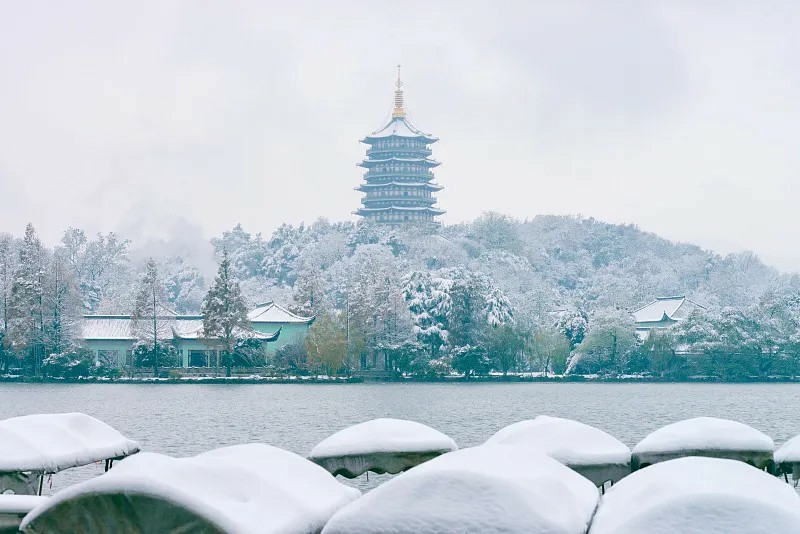Leifeng: (352, 61, 447, 236)
